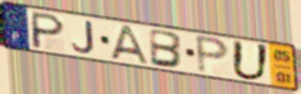A: (109, 23, 150, 65)
B: (149, 27, 186, 70)
J: (70, 20, 96, 55)
P: (194, 33, 232, 76), (30, 10, 67, 51)
U: (230, 39, 272, 82)
